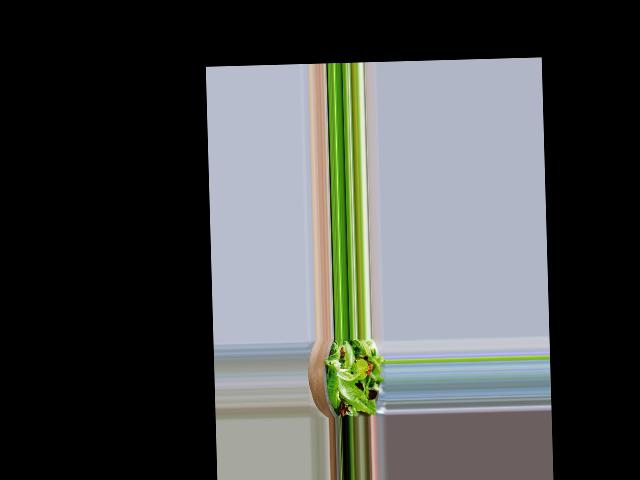lettuce: (325, 342, 381, 410)
